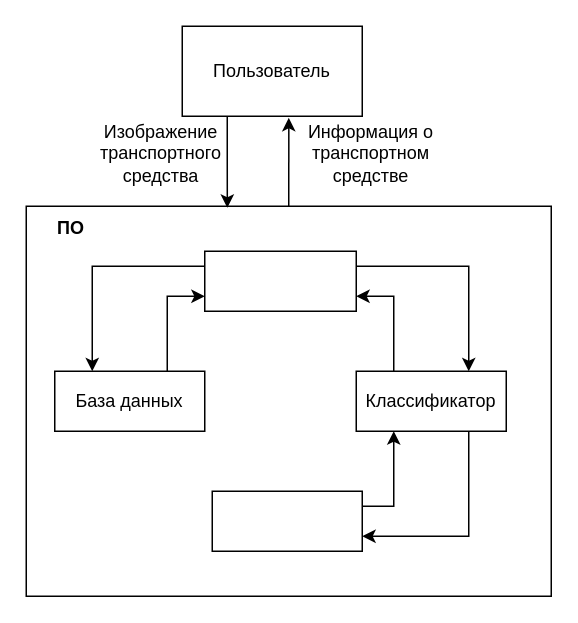
This 578x623 diagram has some shape labels left out. The centre of each missing label's shape, as x and y in pixels:
"Интерфейс" goes at (279,280).
"Нейронная сеть" goes at (286,520).
